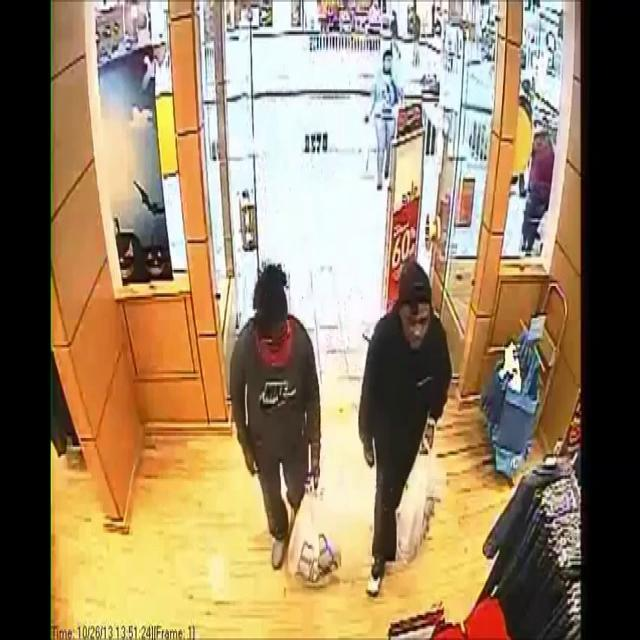normal: (221, 213, 336, 600), (352, 198, 454, 577)
